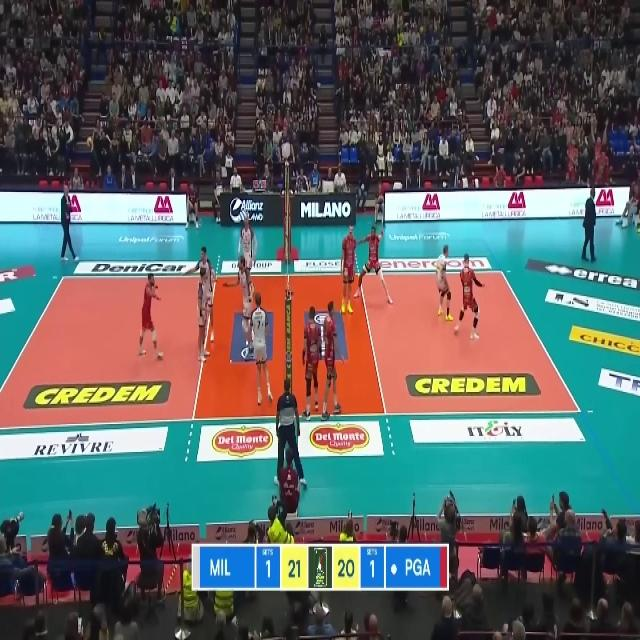volleyball court: (0, 268, 583, 425)
